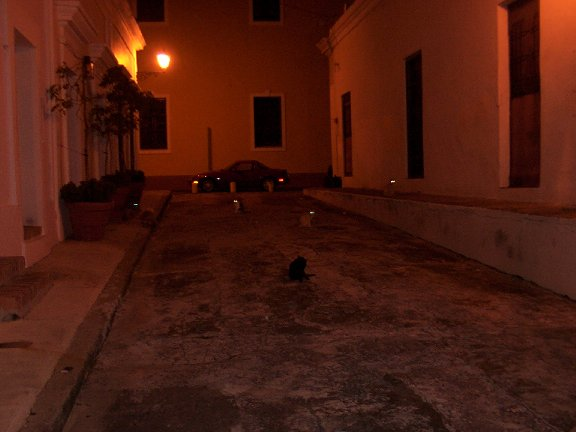car: (188, 157, 294, 198)
